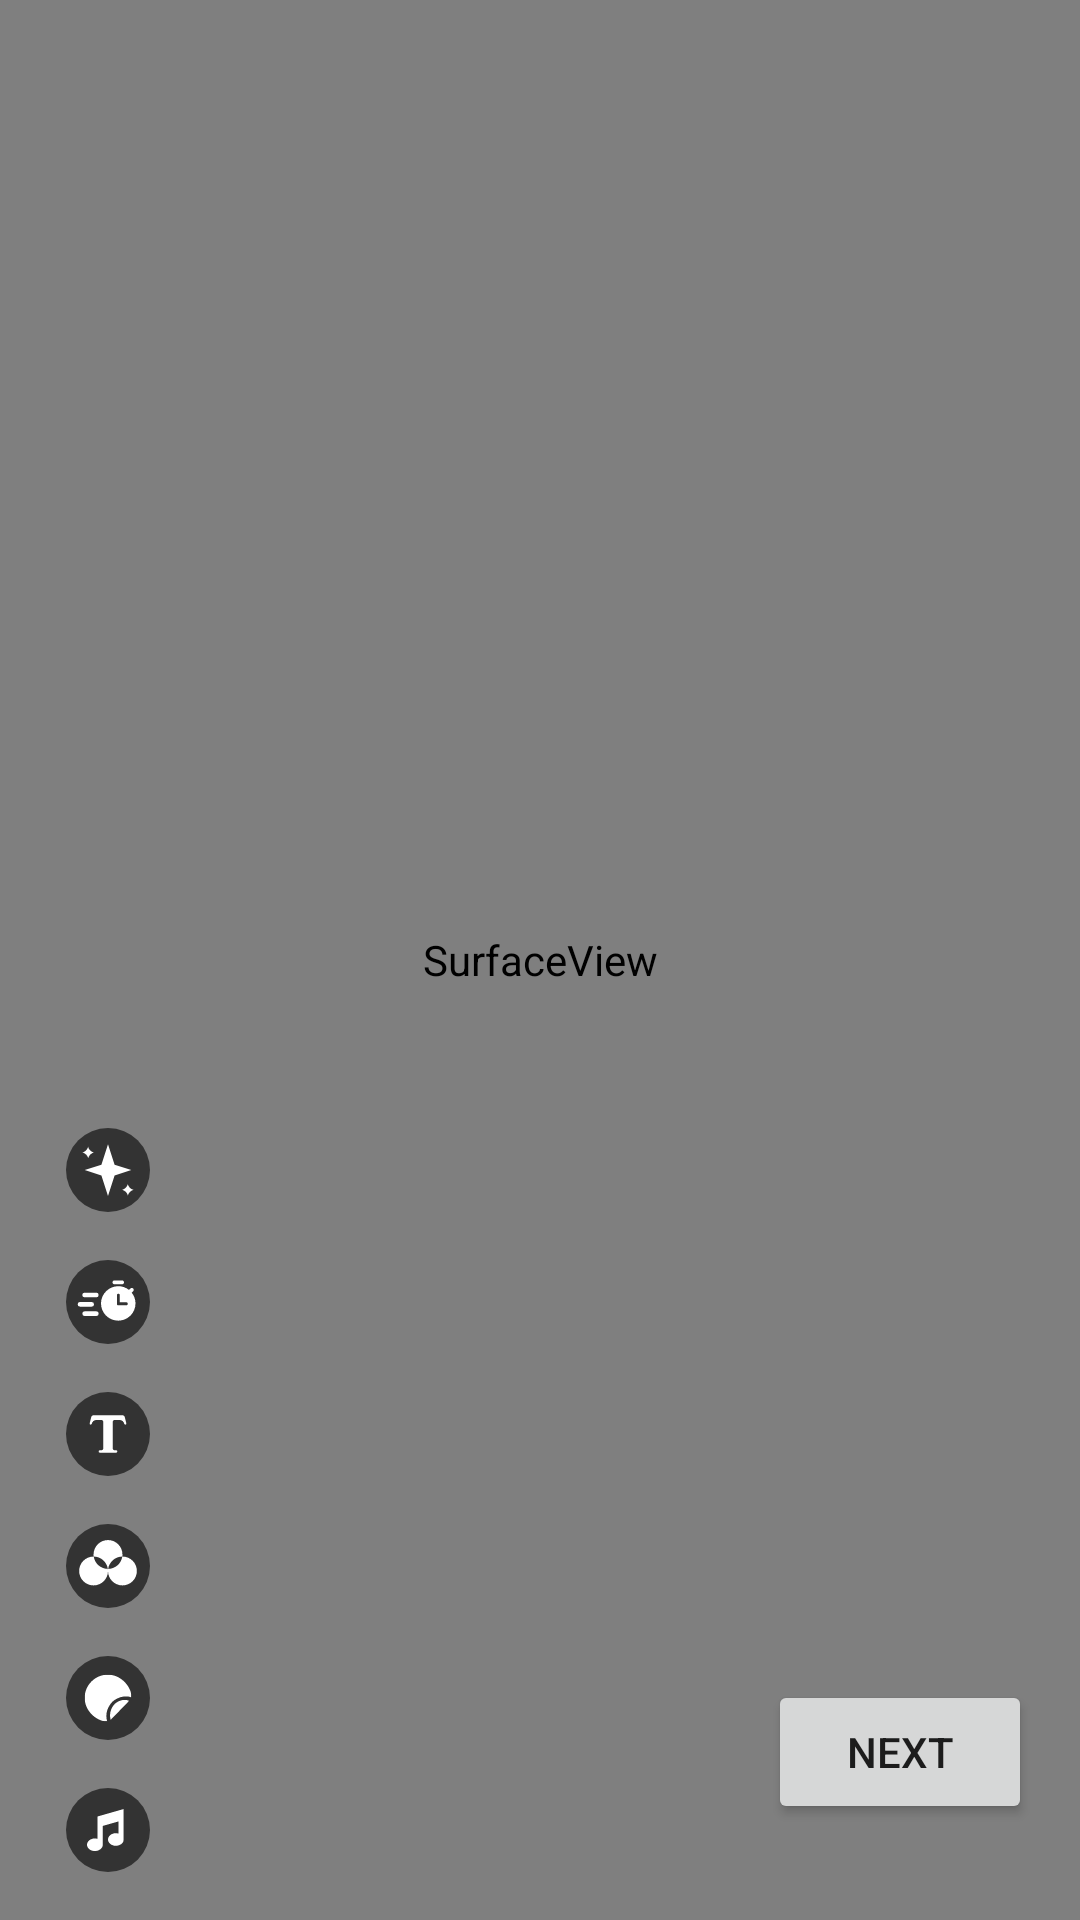

Screen size 1080×1920. Icon name, then its box in pixels as box=[x1, y1, x2, y2]:
editor fx: box=[66, 1128, 150, 1212]
editor gif: box=[66, 1656, 150, 1740]
editor lut: box=[66, 1524, 150, 1608]
editor music: box=[66, 1788, 150, 1872]
editor text: box=[66, 1392, 150, 1476]
editor time: box=[66, 1260, 150, 1344]
